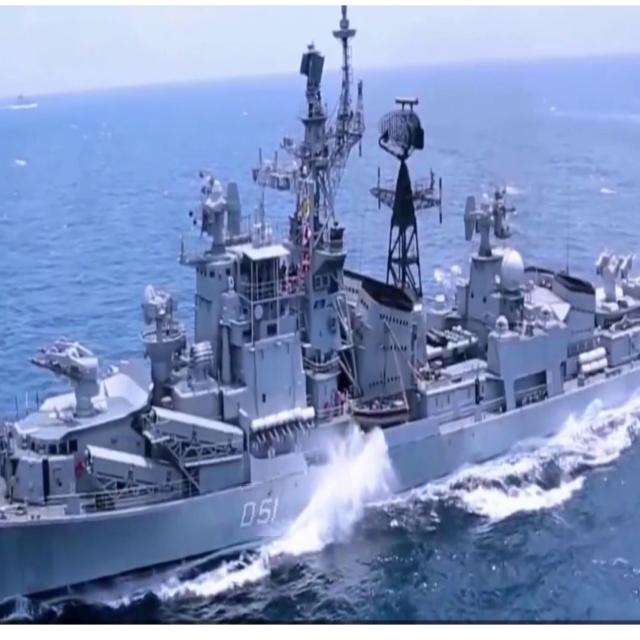OCR: (234, 484, 285, 536)
